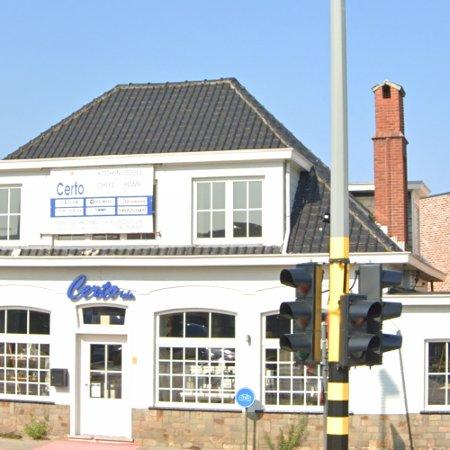chimneys: (374, 81, 411, 251)
